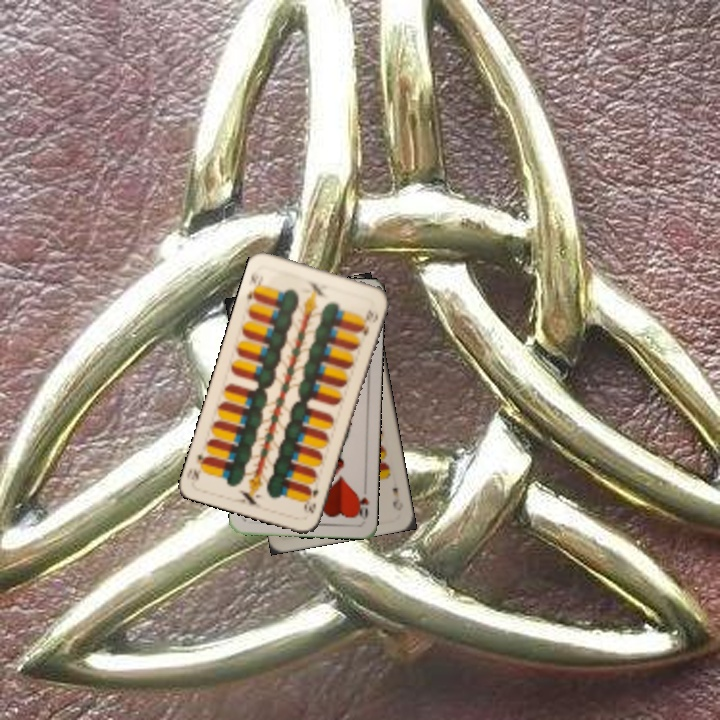E10: (242, 264, 264, 305), (300, 479, 321, 516)
E9: (388, 484, 405, 513)
HO: (353, 489, 372, 522)
